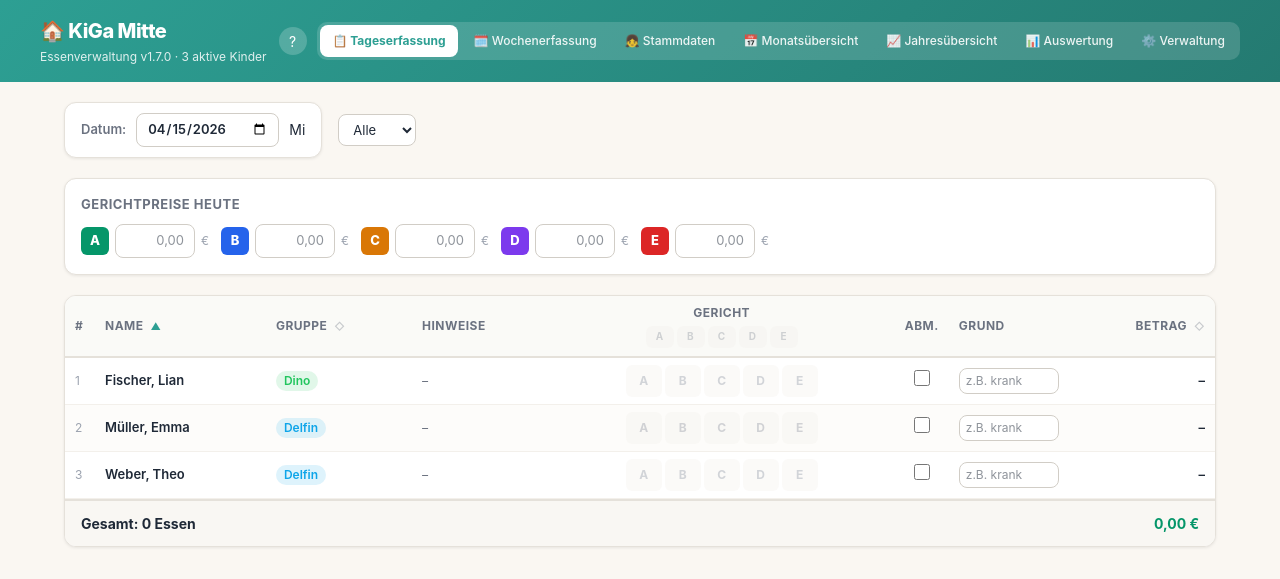
Scenario: WeeklyEntry › rendert Wochenmatrix mit Mo-Fr
This screenshot has width=1280, height=579.
Expected: the text "Müller, Emma" is shown, top-left (95, 404), bottom-right (266, 451)
What coordinates should you click on to do the following:
click the button "🗓️ Wochenerfassung"
I would click on:
 (535, 41)
Its box is top-left (462, 25), bottom-right (609, 57).
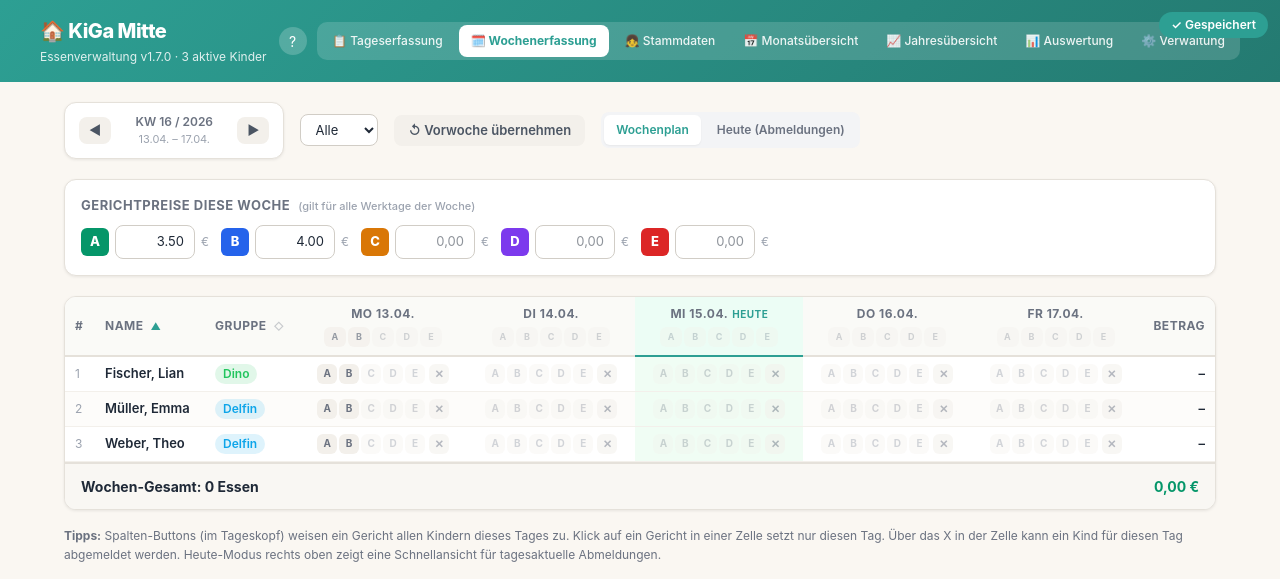
Expected: the text "Gerichtpreise diese Woche(gilt für alle Werktage der Woche)" is shown, top-left (81, 196), bottom-right (475, 212)
Expected: the column heading "Mo 13.04. A B C D E" is shown, top-left (299, 296), bottom-right (467, 356)
Expected: the column heading "Di 14.04. A B C D E" is shown, top-left (467, 296), bottom-right (635, 356)
